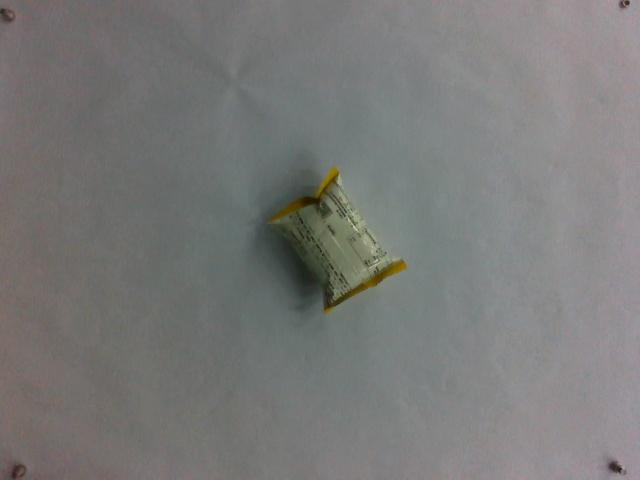dessert: (260, 167, 406, 314)
